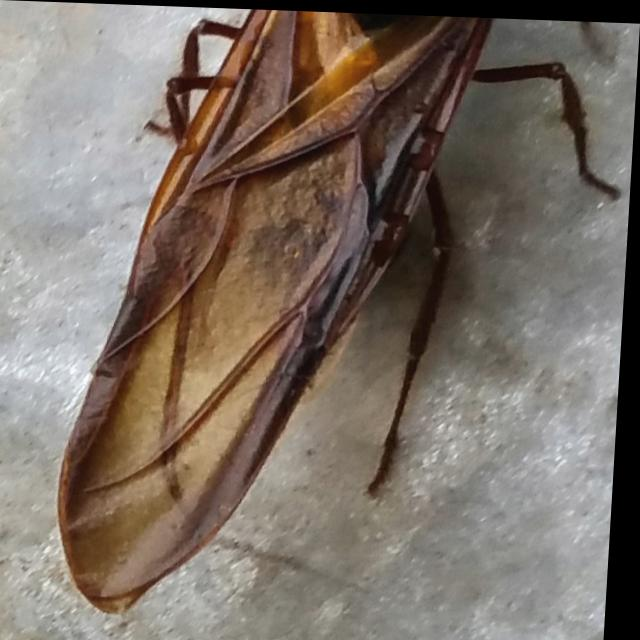Alive-Female-Alate: (56, 2, 632, 631)
